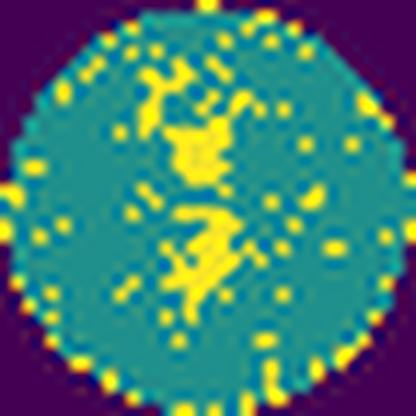Loc: (159, 202, 244, 322), (164, 89, 252, 192), (134, 57, 196, 144)
